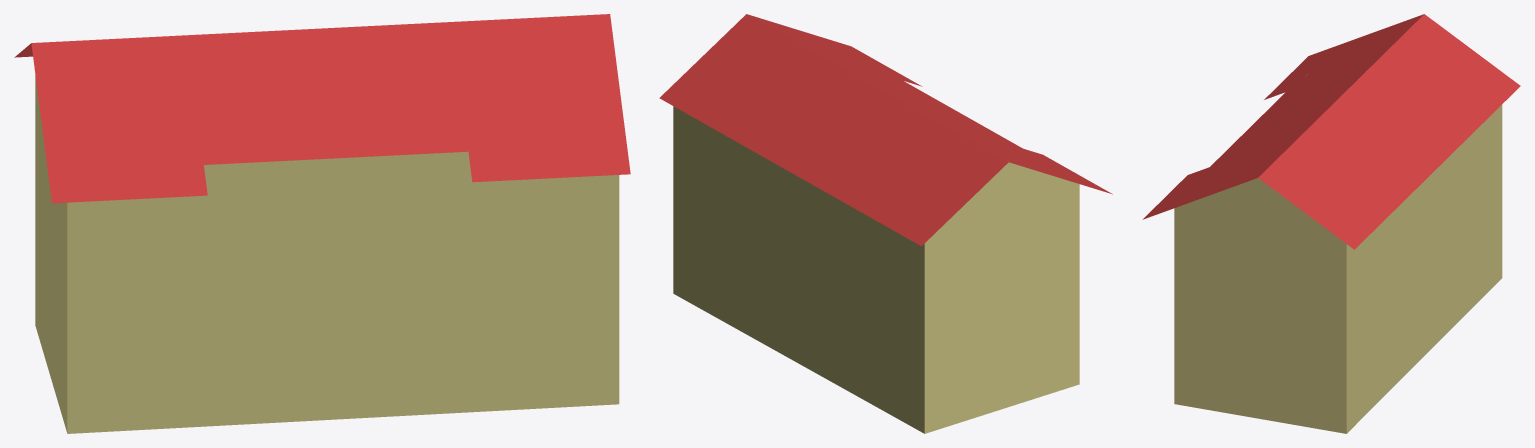
3 renders of one model, left to right at view 1: azimuth 30°, elevation 25°; view 2: azimuth 150°, elevation 25°; view 3: azimuth 270°, elevation 25°, orthographic. The views are drawn at different scales.
Size of the model in its own units: 23.9 by 18.9 by 13.4.
